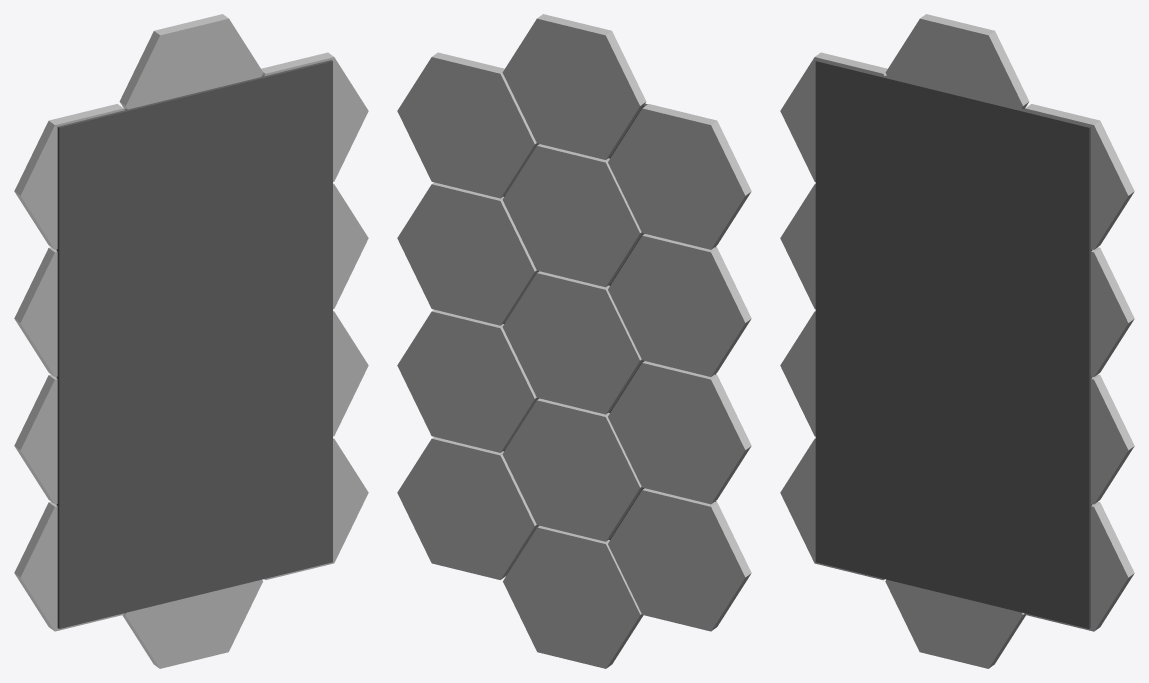
File: mirror2adjusted.obj
3 views of the same model, side by side, from view 1: azimuth 30°, elevation 25°; view 2: azimuth 150°, elevation 25°; view 3: azimuth 330°, elevation 25° (orthographic).
Visible parts, largest first — view 1: Cylinder.011_Cylinder.009; view 2: Cylinder.011_Cylinder.009; view 3: Cylinder.011_Cylinder.009.
Part boxes in pixels (x1,y1,x2,y2): Cylinder.011_Cylinder.009: [14, 14, 368, 668]; Cylinder.011_Cylinder.009: [397, 14, 751, 668]; Cylinder.011_Cylinder.009: [780, 14, 1134, 668].
Bounding box in the file's own units: 1.71 × 2.98 × 0.0676.
